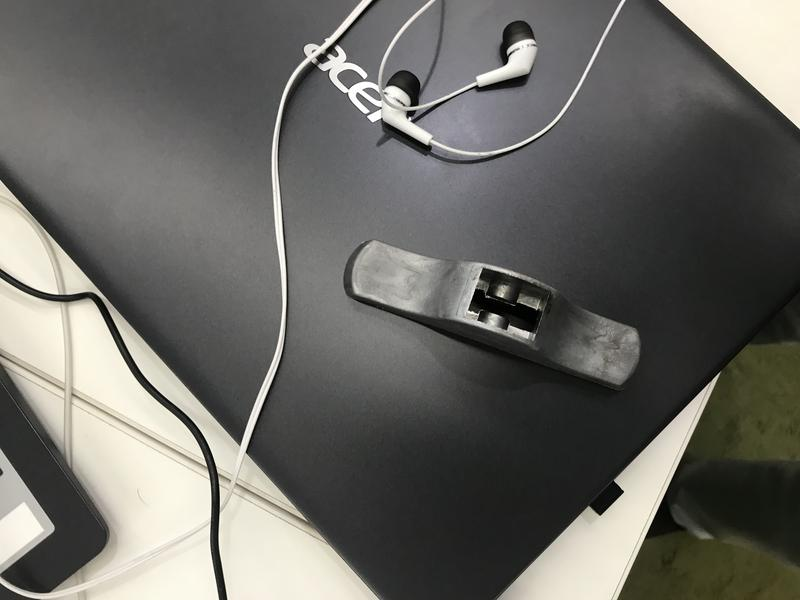zapchast: (331, 223, 655, 409)
